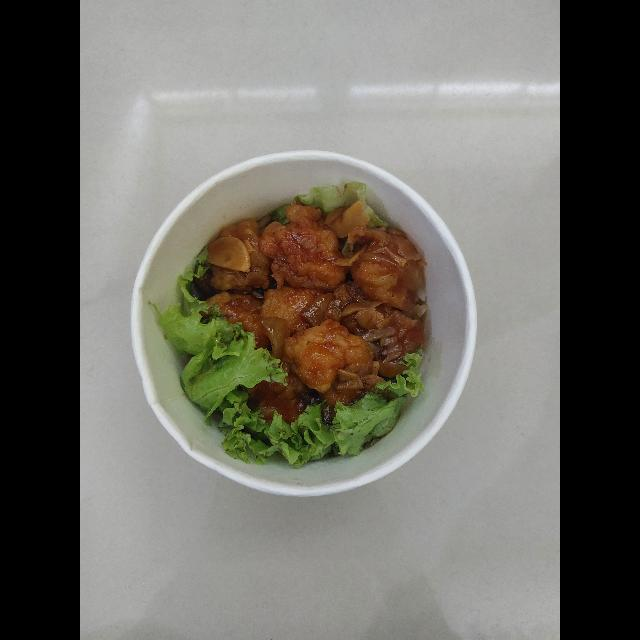rice-bowl: (121, 138, 491, 517)
